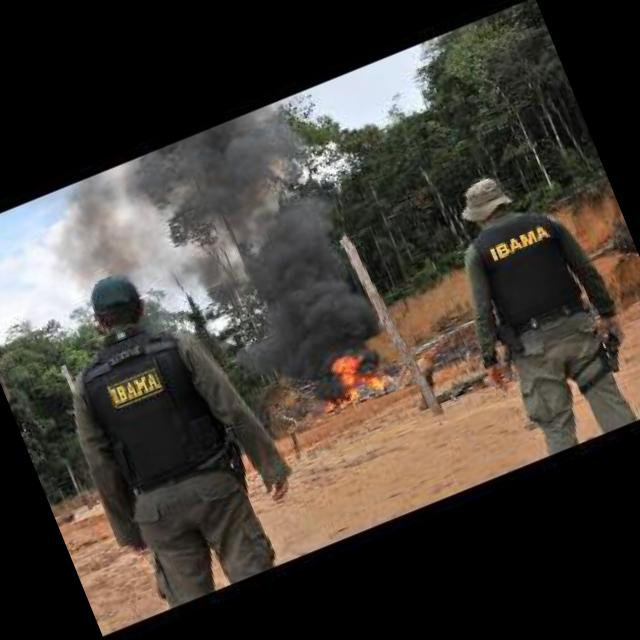fire: (310, 342, 390, 410)
